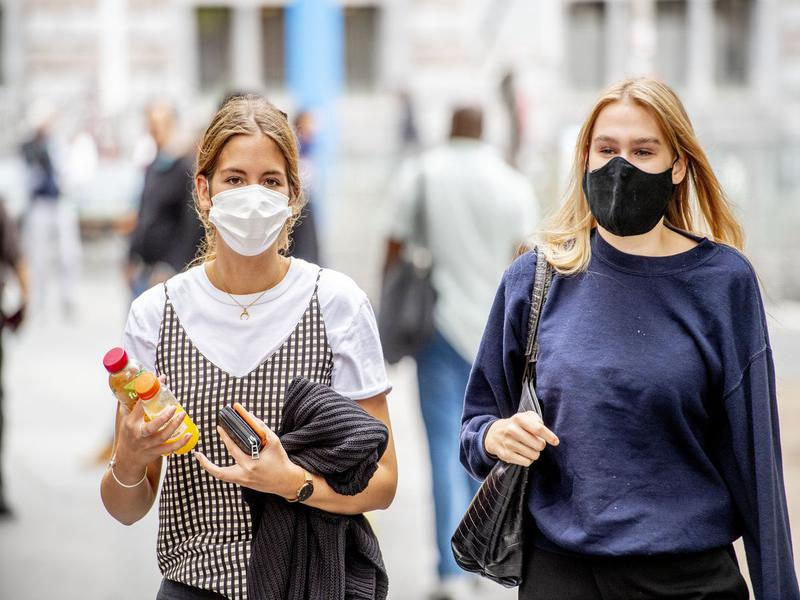mask: (206, 185, 290, 256)
